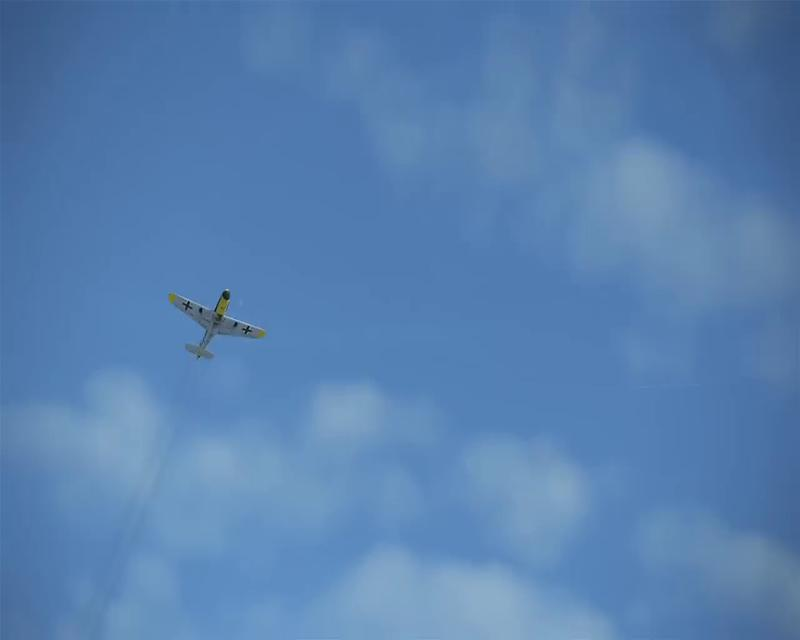UAV: (166, 287, 266, 361)
